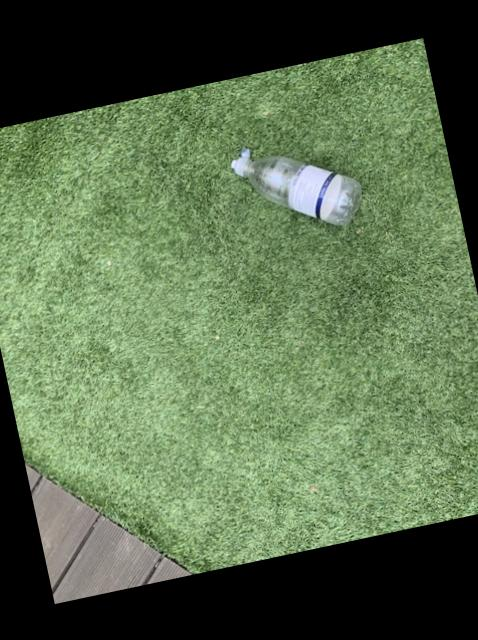plastic: (231, 149, 360, 225)
